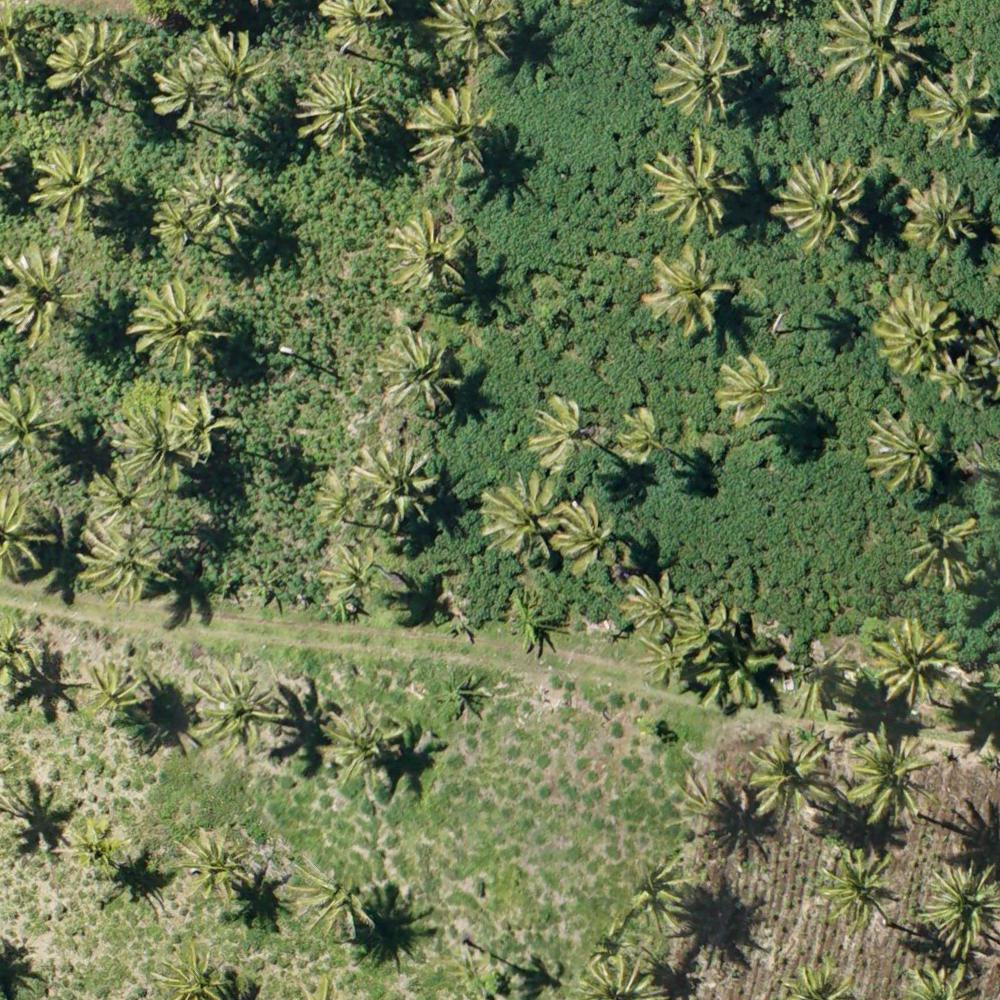Palm: (818, 1, 932, 95), (839, 726, 939, 821), (125, 279, 223, 374), (647, 133, 743, 227), (868, 618, 961, 707), (3, 238, 84, 340), (189, 668, 286, 751), (82, 515, 165, 609), (657, 29, 746, 116), (918, 858, 1000, 952), (876, 292, 965, 378), (779, 158, 867, 244), (645, 246, 728, 336), (385, 213, 474, 295), (746, 733, 831, 817), (187, 25, 269, 110), (357, 438, 439, 523), (481, 472, 563, 555), (31, 140, 112, 224), (297, 72, 384, 149), (291, 860, 373, 941), (918, 69, 998, 151), (383, 328, 462, 411), (405, 90, 488, 168), (864, 411, 940, 496), (114, 402, 187, 490), (903, 179, 980, 262), (176, 824, 251, 908), (818, 850, 897, 927), (182, 160, 254, 243), (631, 849, 702, 931), (325, 706, 399, 782), (426, 1, 513, 65), (1, 387, 70, 467), (148, 50, 219, 124), (528, 393, 599, 466), (716, 354, 786, 423), (86, 466, 162, 529), (85, 654, 152, 725), (620, 571, 689, 638), (169, 392, 237, 456), (555, 500, 619, 567), (795, 646, 856, 713), (320, 539, 385, 601), (48, 25, 114, 83), (67, 817, 128, 878), (314, 465, 370, 527), (612, 408, 669, 468), (933, 347, 986, 404), (150, 198, 203, 254), (681, 599, 733, 655)
